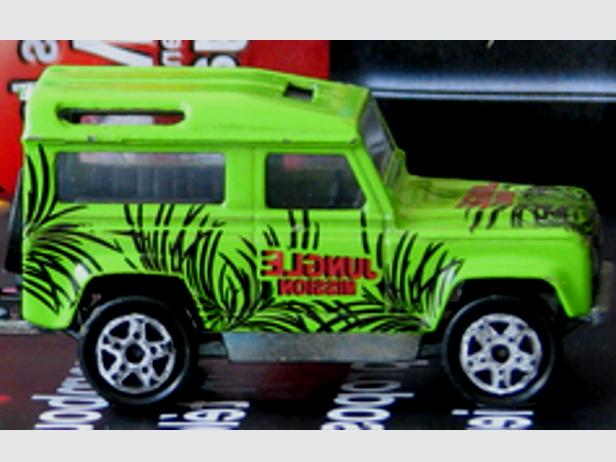toy-car: (0, 63, 616, 415)
